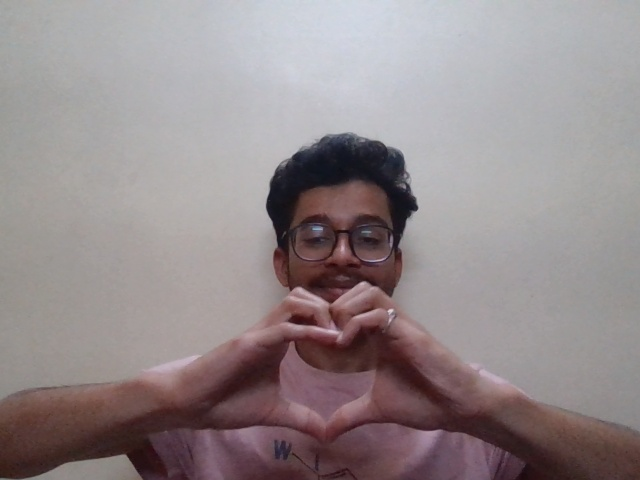silent-voice: (213, 280, 460, 452)
